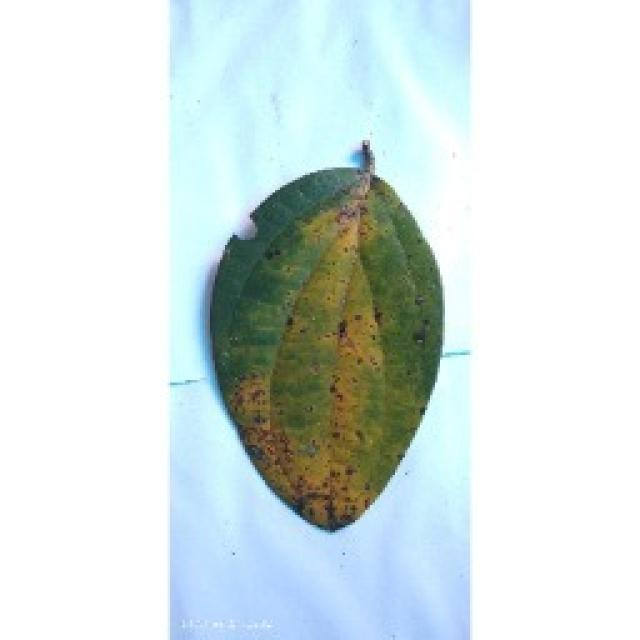slow-decline: (198, 128, 448, 530)
